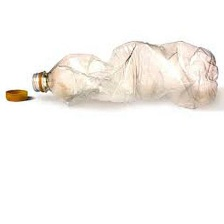bottle: (28, 32, 220, 110)
